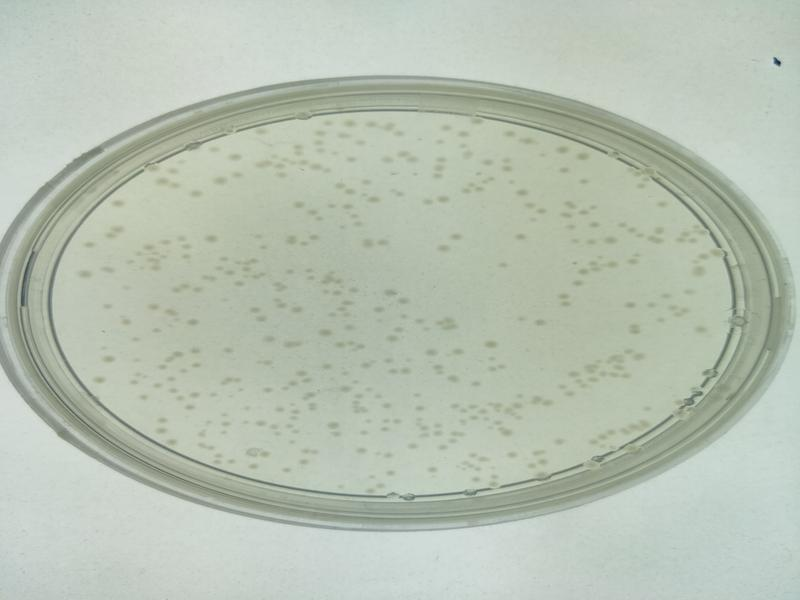colony: (504, 223, 532, 250), (431, 237, 456, 261), (619, 288, 642, 314), (283, 190, 308, 213), (209, 170, 231, 193), (420, 339, 443, 360), (72, 265, 96, 285), (376, 232, 394, 256), (437, 190, 457, 211), (376, 150, 396, 171), (259, 327, 278, 349), (186, 186, 208, 205), (420, 460, 443, 478), (480, 334, 500, 354), (202, 230, 221, 247), (531, 314, 551, 330)
